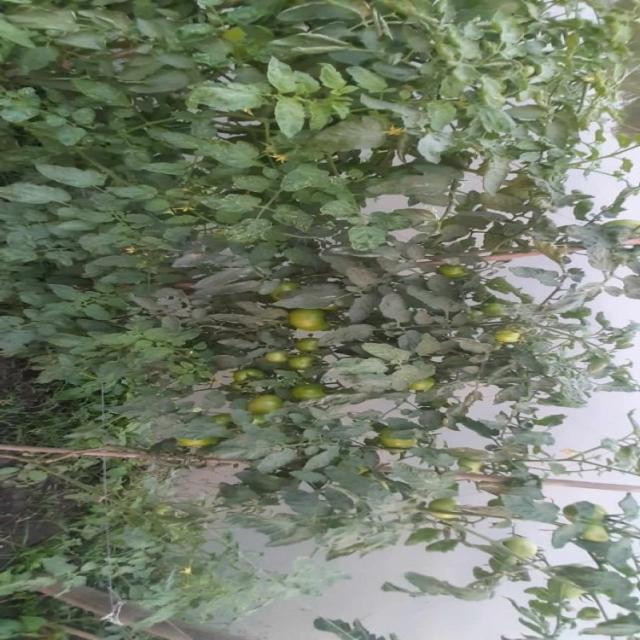tomato: (293, 300, 337, 339), (249, 392, 292, 422), (556, 572, 594, 599), (383, 435, 419, 462), (505, 531, 534, 561), (460, 461, 500, 482), (288, 384, 330, 403), (590, 522, 615, 553), (445, 263, 475, 288), (501, 328, 528, 353), (264, 348, 292, 370), (235, 362, 264, 380), (433, 498, 458, 516), (293, 355, 317, 372)
